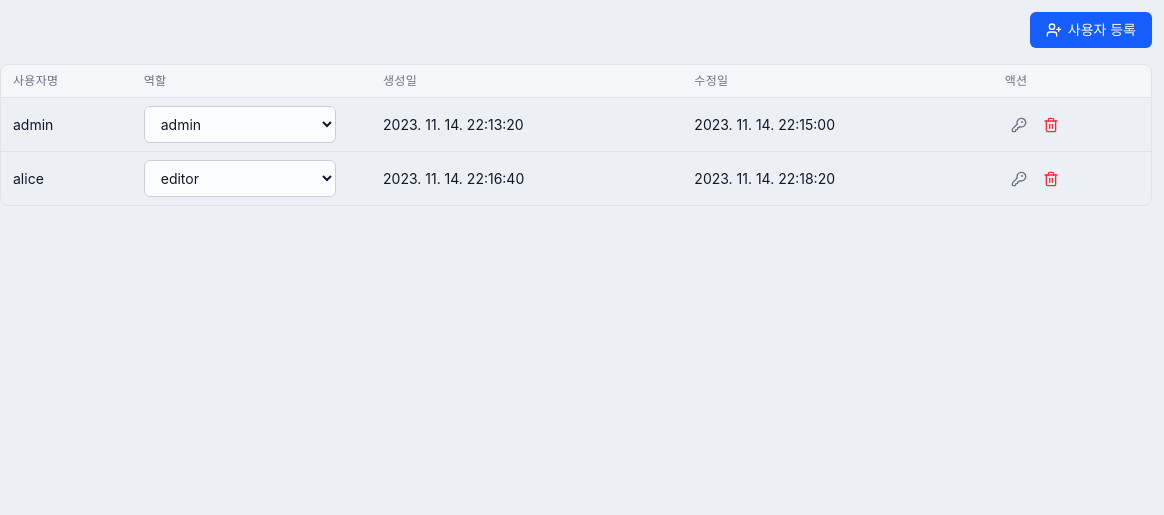
Test: UsersPanel 비밀번호 확인란과 클라이언트 검증 › 등록: 확인란이 다르면 요청을 보내지 않고 사유를 알린다
Expected: the row with test id "admin-user-row-alice" is shown, [1,152,1151,205]
Step 1. Click the button "사용자 등록" → point(1091, 30), box [1030,12,1152,48]
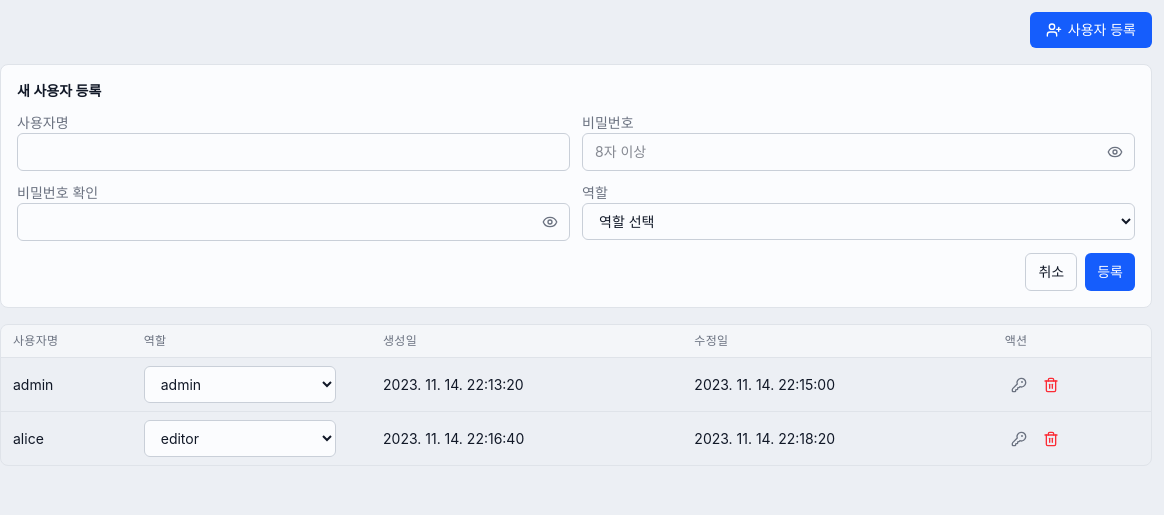
Step 2. Type "carol" into the field → point(294, 152), box [17,133,570,171]
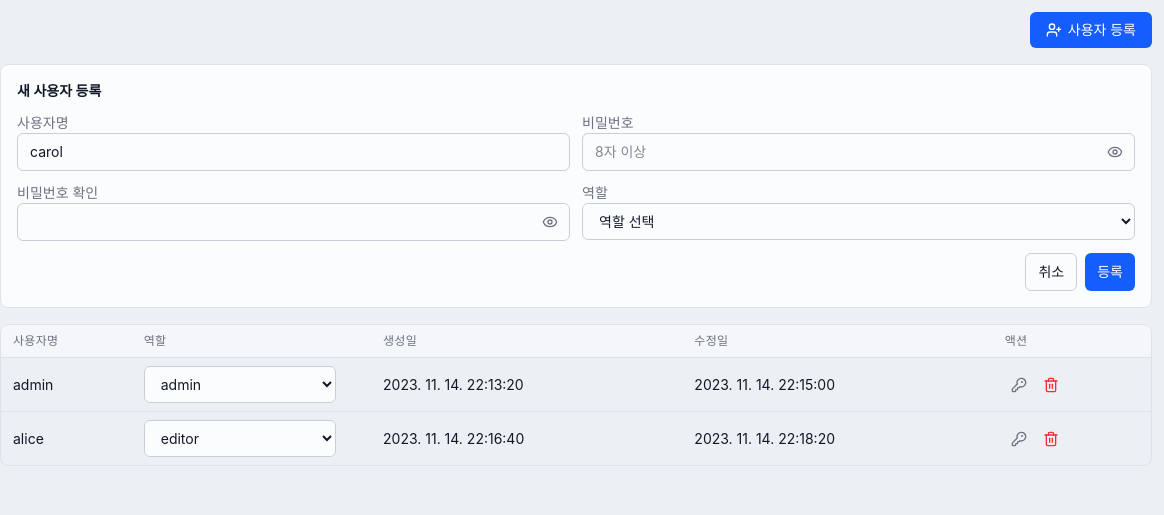
Step 3. Type "secret-password" into the password field with placeholder "8자 이상" → point(858, 152), box [582,133,1135,171]
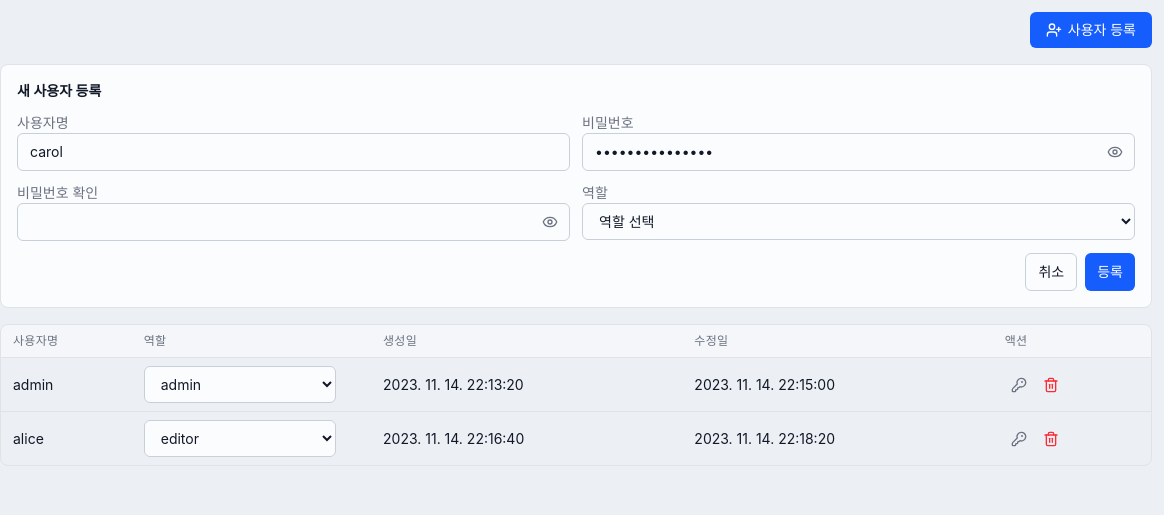
Step 4. Type "secret-passwordX" into the password field labelled "비밀번호 확인" → point(294, 222), box [17,203,570,241]
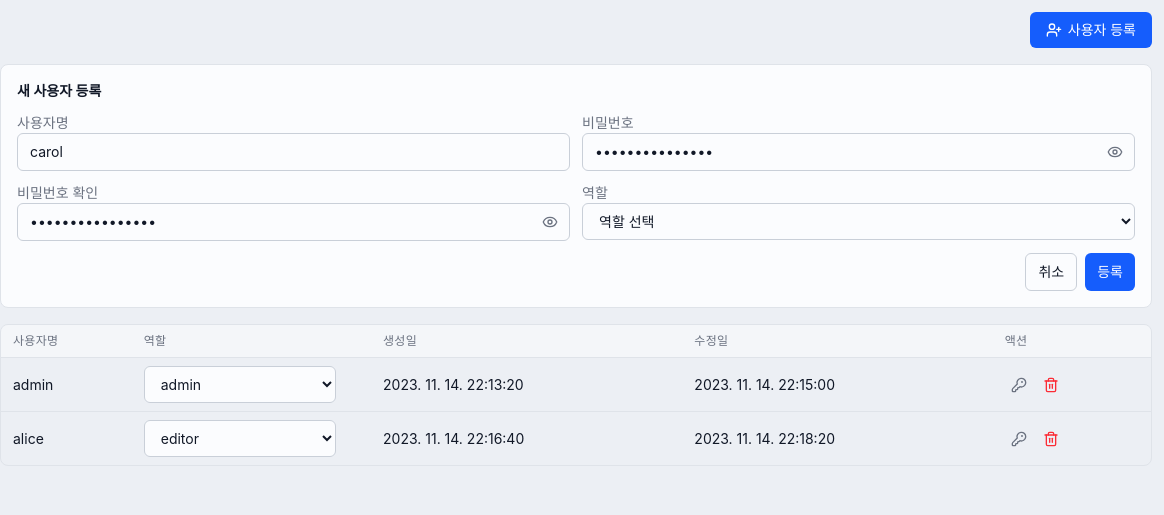
Step 5. Select "operator" in the dropdown labelled "역할" → point(858, 222), box [582,203,1135,240]
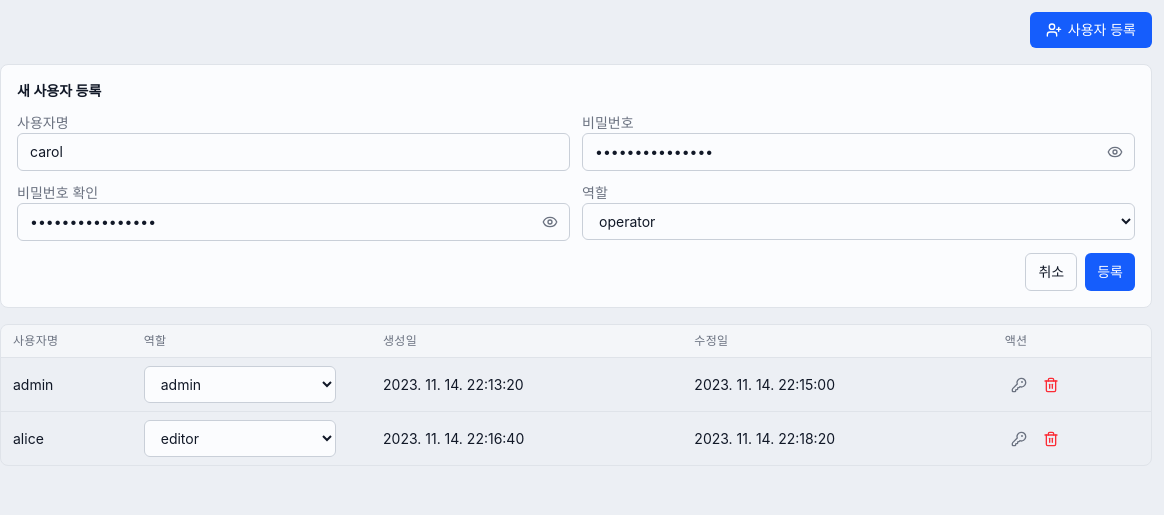
Step 6. Click the button "등록" → point(1110, 272), box [1085,253,1135,291]
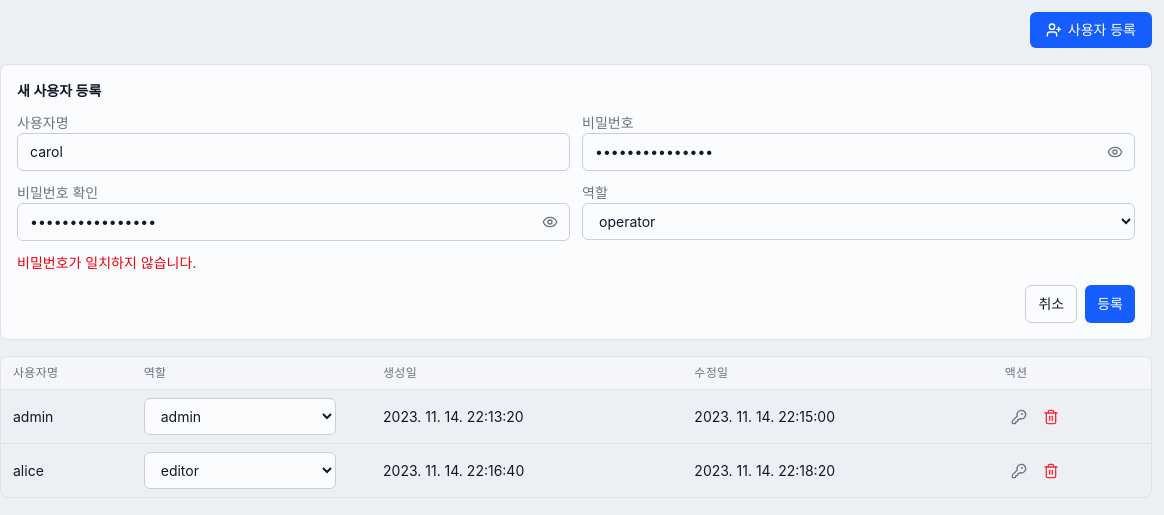
Result: the form with test id "admin-users-create-form" is shown at [0,64,1152,340]
Result: the message with test id "admin-users-create-validation-error" reads "비밀번호가 일치하지 않습니다." at [17,254,196,271]
